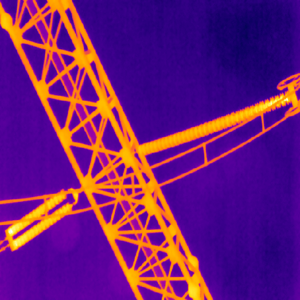insulator: (136, 91, 289, 155), (7, 187, 71, 250)
